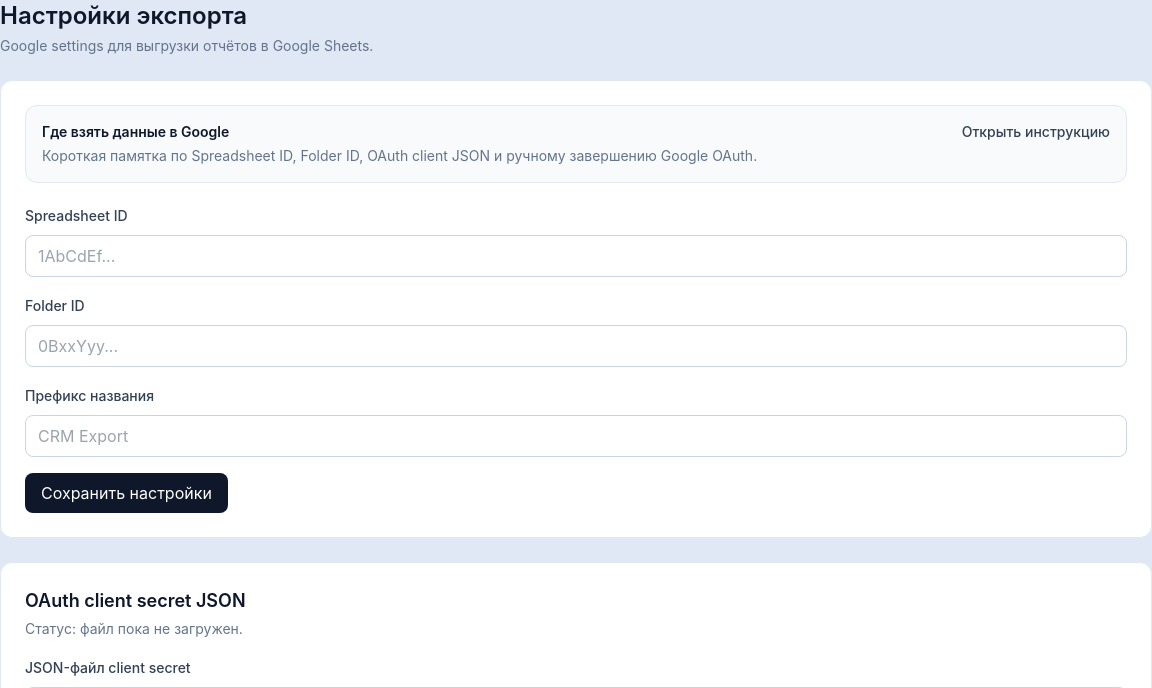
it: SettingsPage › shows visible success feedback after saving Google settings
The width and height of the screenshot is (1152, 688).
Expected: the button "Сохранить настройки" is shown, x1=25 y1=473 x2=228 y2=513
Type "folder-123" into the field labelled "Folder ID".
click(576, 346); type("folder-123")  # box x1=25 y1=325 x2=1127 y2=367
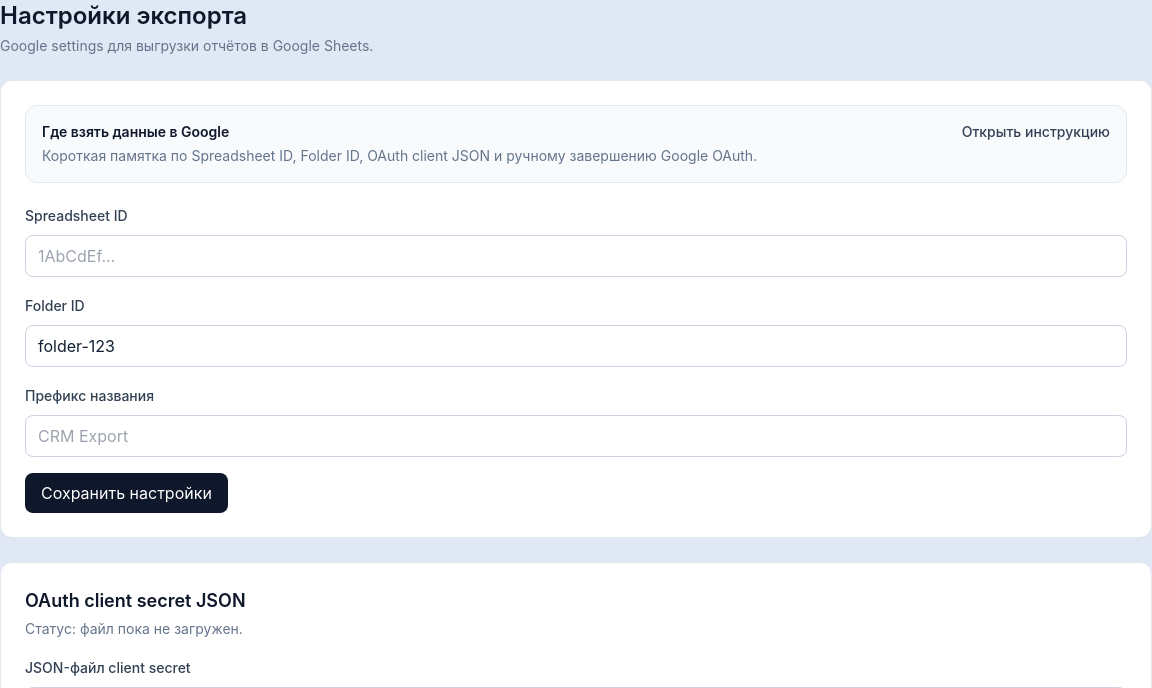
Click the button "Сохранить настройки".
click(126, 493)  # box x1=25 y1=473 x2=228 y2=513
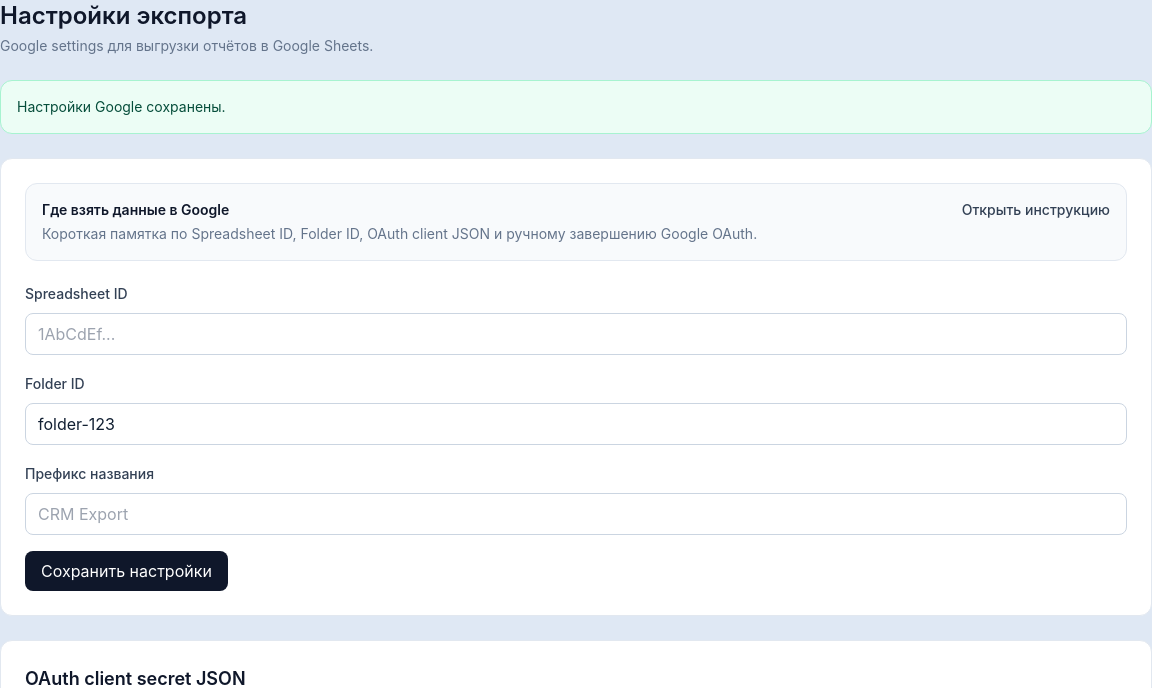
Expected: the text "Настройки Google сохранены." is shown, x1=0 y1=80 x2=1151 y2=134
